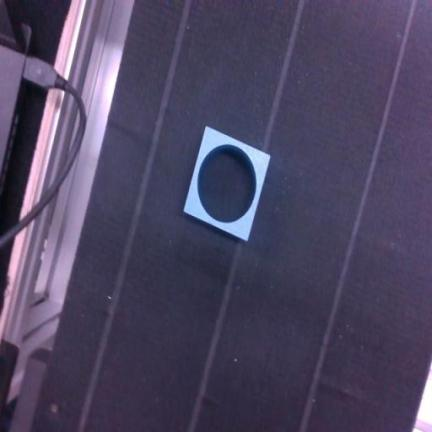hole: (184, 127, 269, 240)
